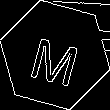M_N: (26, 25, 84, 85)
